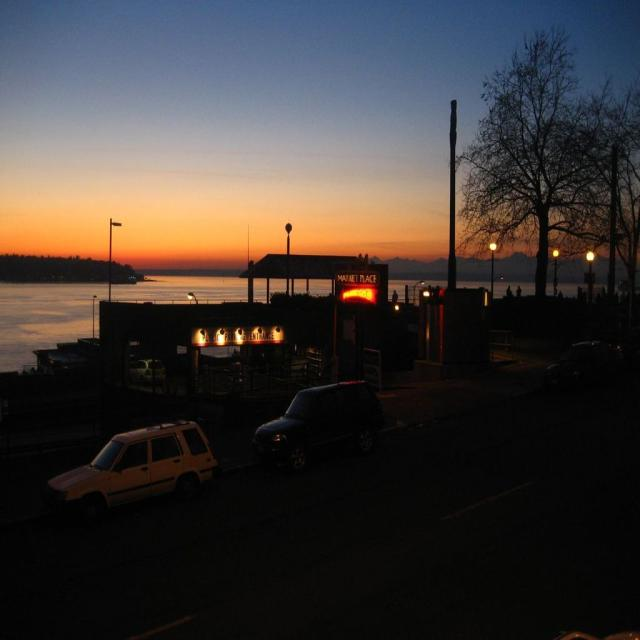car: (47, 415, 219, 523), (254, 378, 381, 467)
